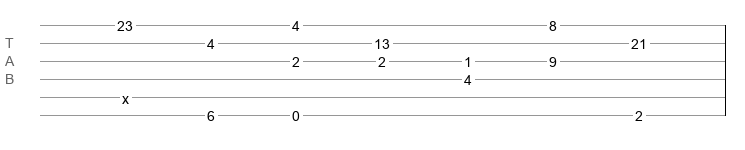0: (292, 108, 300, 118)
1: (464, 54, 472, 64)
13: (374, 36, 390, 46)
2: (292, 54, 300, 64), (378, 54, 386, 64), (635, 108, 643, 118)
21: (631, 36, 647, 46)
23: (117, 18, 133, 28)
4: (207, 36, 215, 46), (292, 18, 300, 28), (464, 72, 472, 82)
6: (207, 108, 215, 118)
8: (549, 18, 557, 28)
9: (549, 54, 557, 64)
x: (122, 91, 129, 99)
